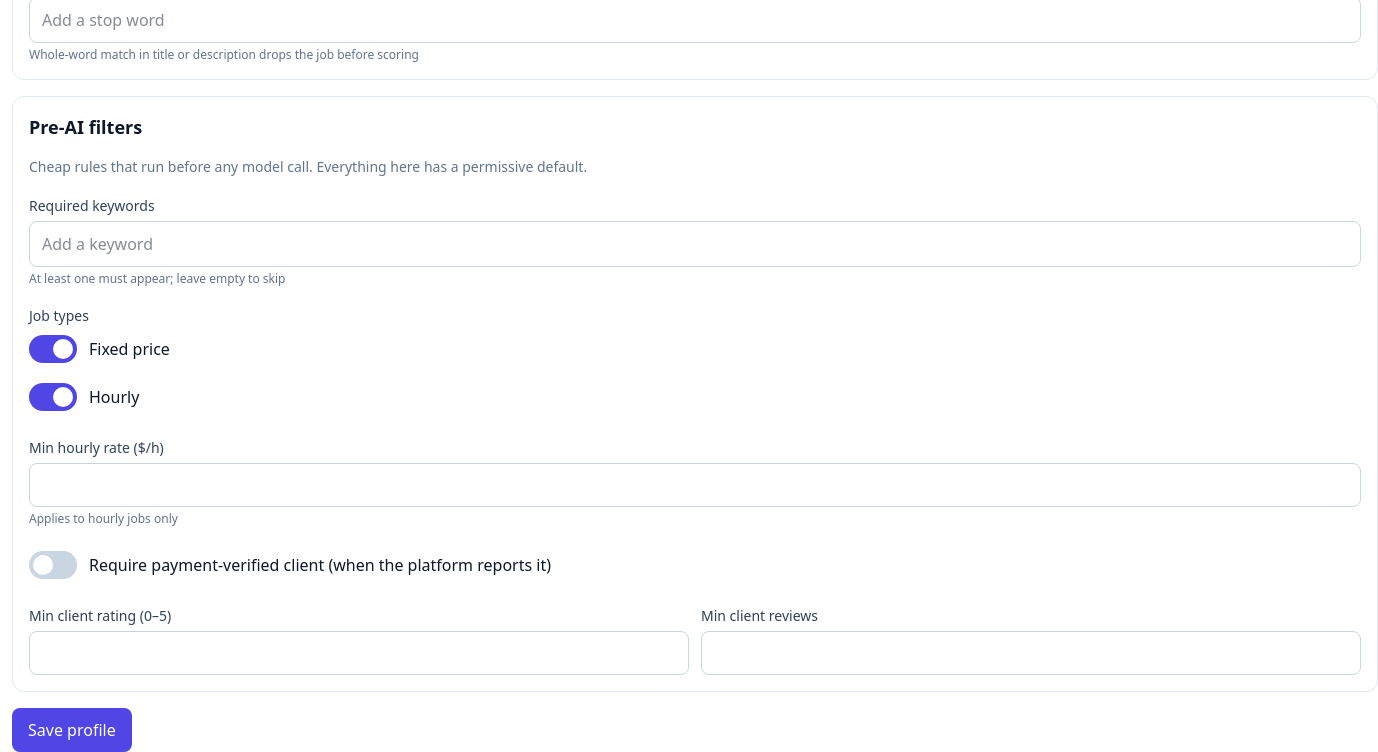
Scenario: ProfileForm › blocks submit with a visible error when the name is empty
(page scrolled)
Click the button "Save profile" at {"x": 72, "y": 730}, box [12,708,132,751]
(page scrolled)
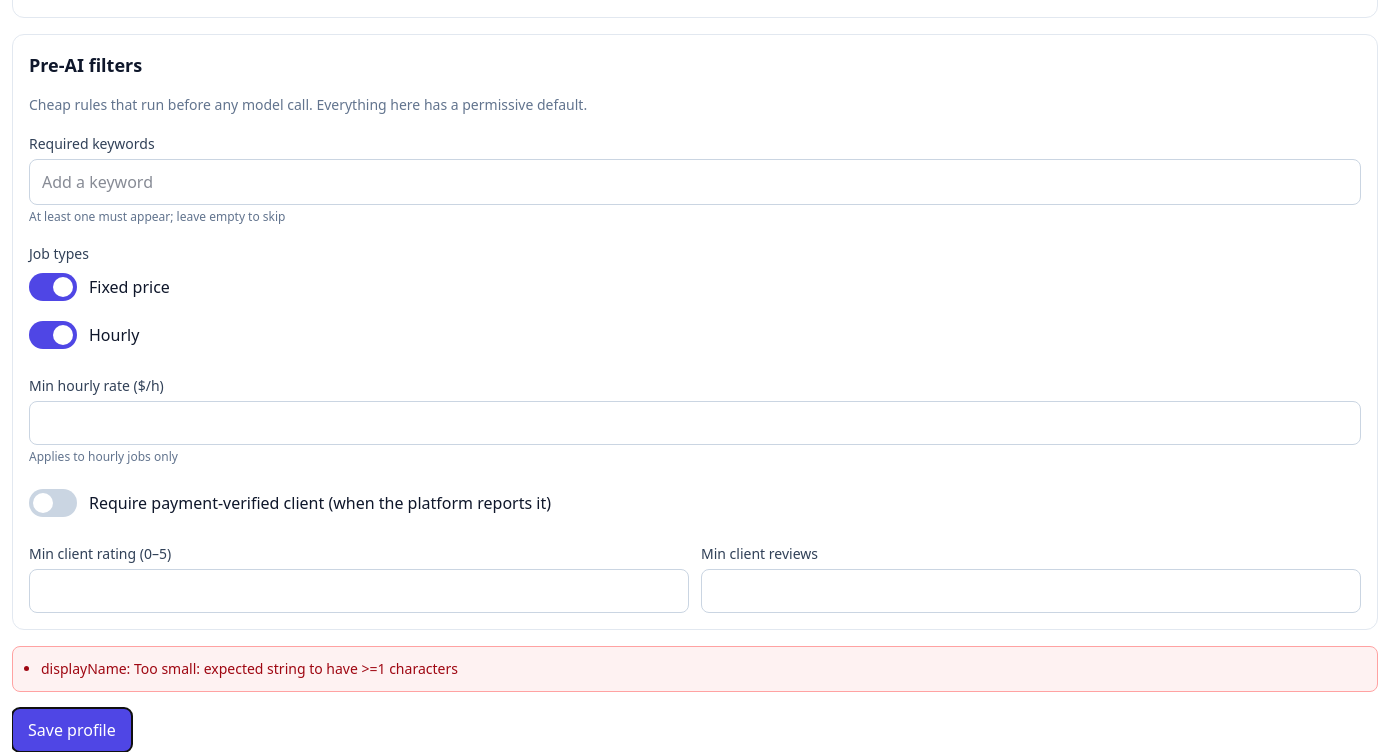
Check: the message shows "displayName", box [41,659,458,678]
